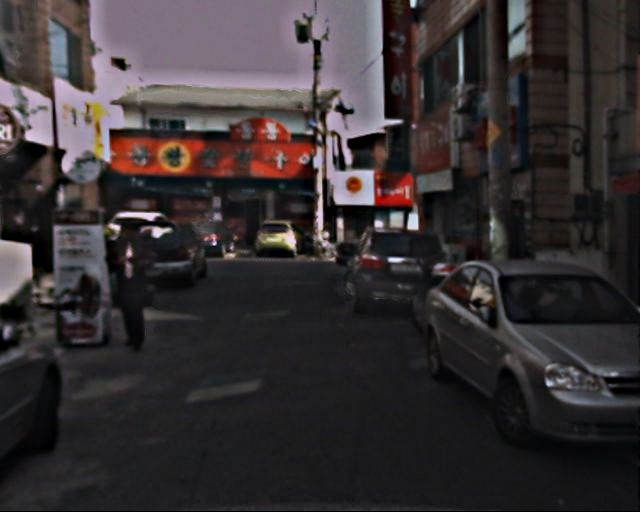person: (107, 220, 163, 354)
